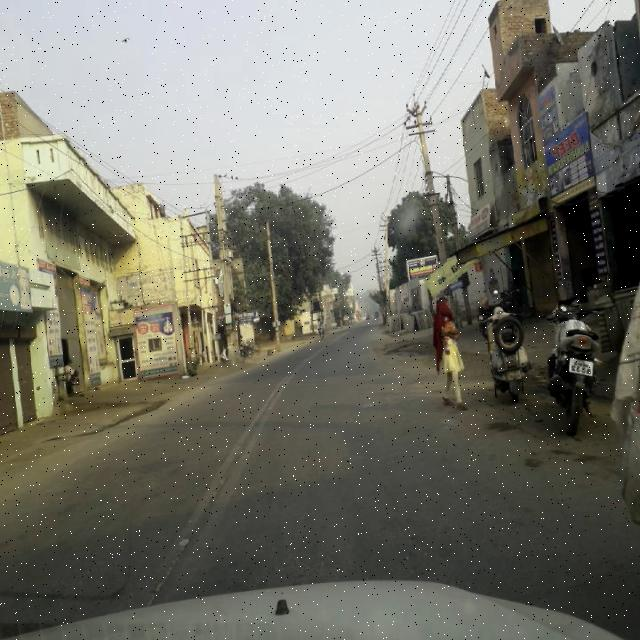D01: (143, 530, 194, 606)
D44: (149, 481, 239, 595), (211, 387, 287, 482)
